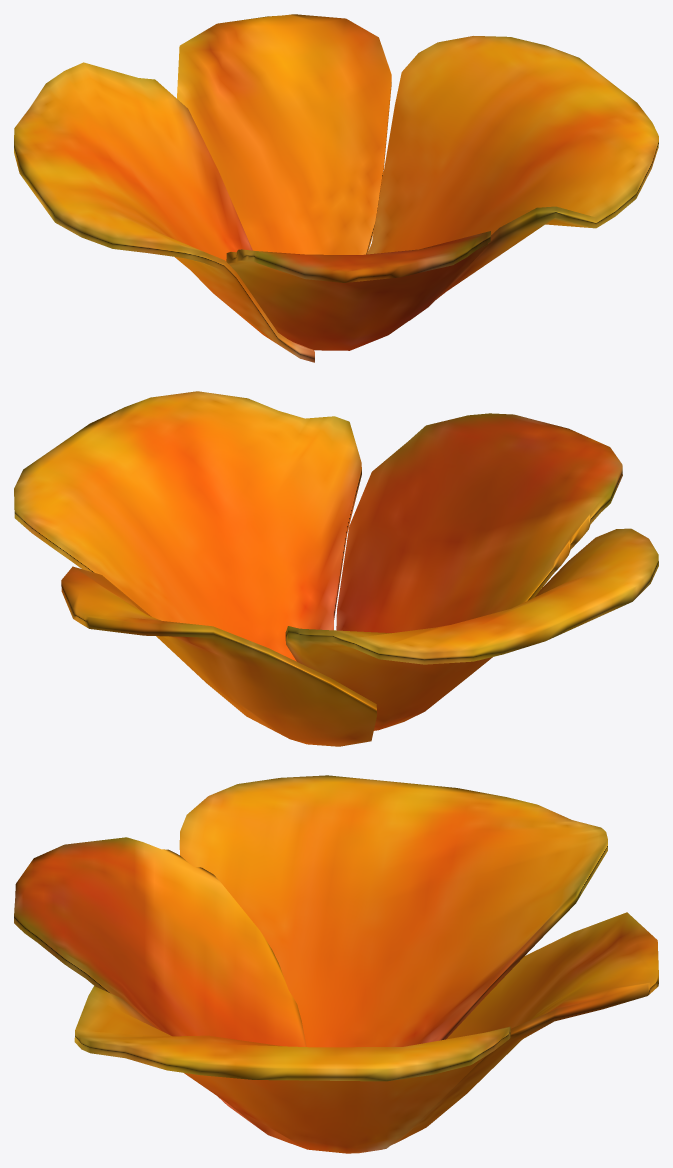
File: poppy_orange.glb
3 renders of one model, top to bottom at view 1: azimuth 30°, elevation 25°; view 2: azimuth 150°, elevation 25°; view 3: azimuth 270°, elevation 25°, orthographic. The views are drawn at different scales.
Parts seen in each view (by area): view 1: poppy_orange; view 2: poppy_orange; view 3: poppy_orange.
Boxes of the visible parts, x1,y1,x2,y2 form: poppy_orange: (14,14,658,362); poppy_orange: (14,391,658,746); poppy_orange: (14,775,658,1153).
Bounding box in the file's own units: 0.0893 × 0.0331 × 0.0826.
1 material, 1 textured.
